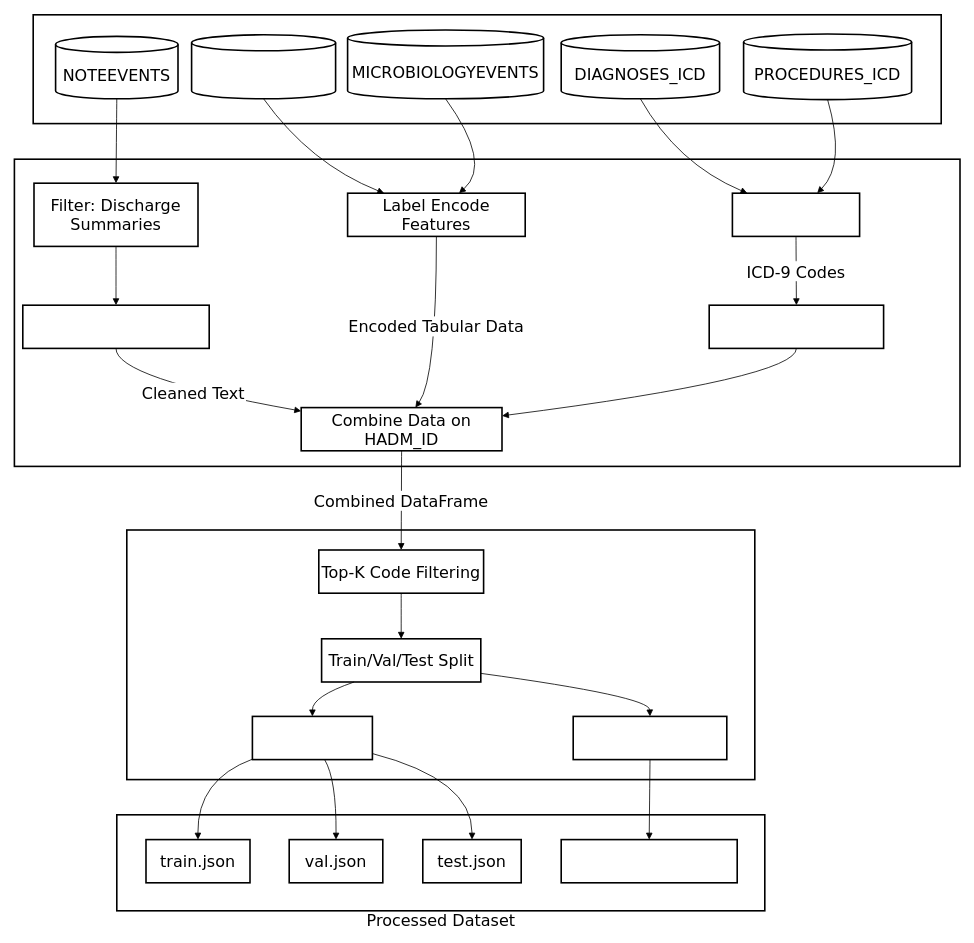
This 974x943 diagram has some shape labels left out. The centre of each missing label's shape, as x and y in pixels:
Clean & Preprocess Text: point (116, 326)
Extract Codes: point (795, 214)
Filter: Rare ICD Codes: point (796, 326)
PRESCRIPTIONS: point (263, 66)
Tokenization: point (312, 737)
Word2Vec Embeddings: point (649, 860)
Word2Vec Training: point (649, 737)
